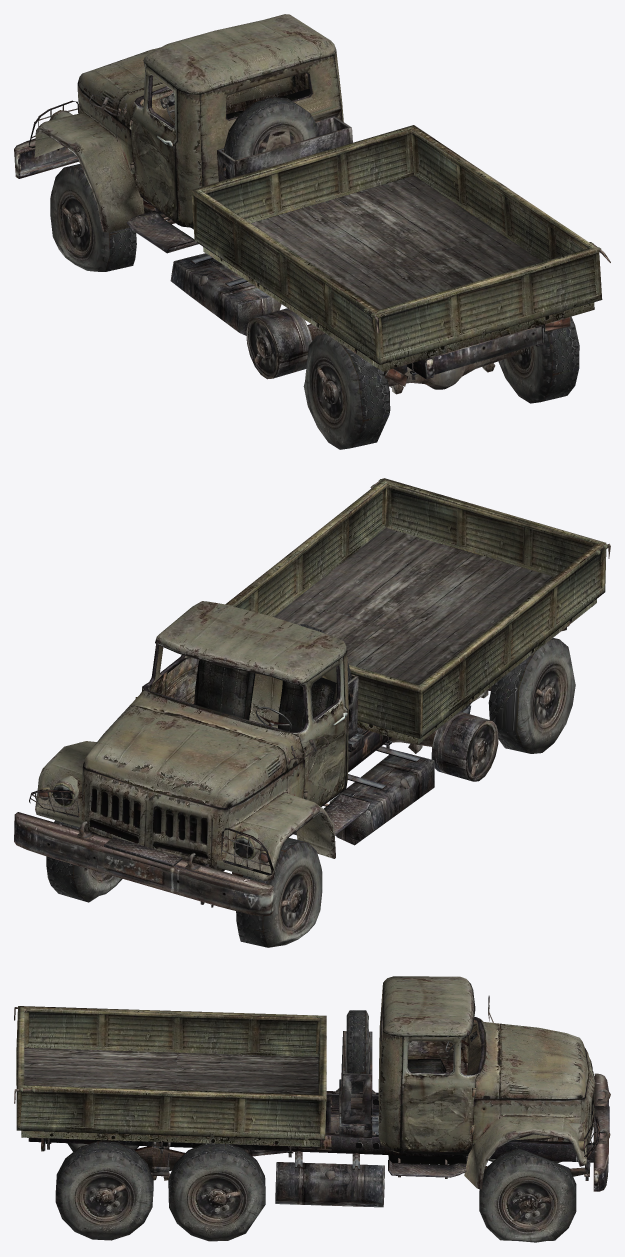
The model's file is truck_zil131.glb.
3 renders of one model, top to bottom at view 1: azimuth 30°, elevation 25°; view 2: azimuth 150°, elevation 25°; view 3: azimuth 270°, elevation 25°, orthographic. The views are drawn at different scales.
Visible parts, largest first — view 1: Object_4; view 2: Object_4; view 3: Object_4.
Boxes of the visible parts, x1,y1,x2,y2 form: Object_4: [14, 14, 610, 449]; Object_4: [14, 478, 610, 947]; Object_4: [14, 976, 610, 1242].
Bounding box in the file's own units: 2.9 × 2.57 × 6.99.
Materials: 1 (1 with a texture image).
